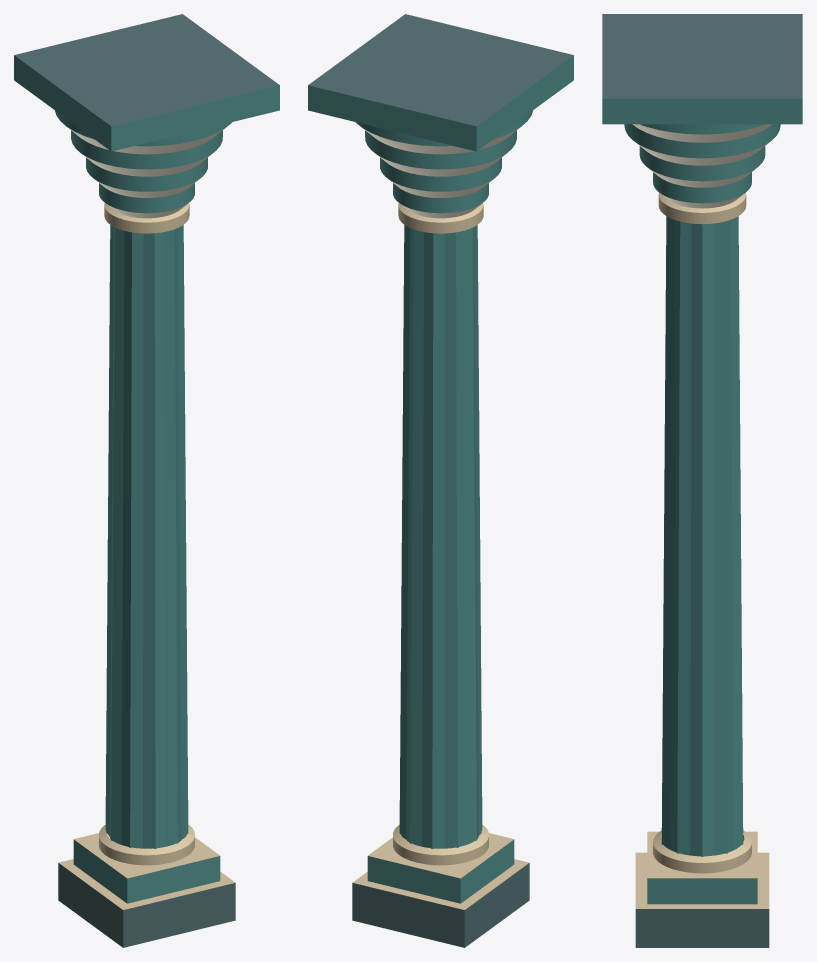
Rendered from KC32__AD_Int_Column.glb.
3 renders of one model, left to right at view 1: azimuth 30°, elevation 25°; view 2: azimuth 150°, elevation 25°; view 3: azimuth 270°, elevation 25°, orthographic. The views are drawn at different scales.
Visible parts, largest first — view 1: KC32_CORPS__AD_Int_Column, KC32_BRONZE__AD_Int_Column, KC32_LUMIERE__AD_Int_Column; view 2: KC32_CORPS__AD_Int_Column, KC32_BRONZE__AD_Int_Column, KC32_LUMIERE__AD_Int_Column; view 3: KC32_CORPS__AD_Int_Column, KC32_BRONZE__AD_Int_Column, KC32_LUMIERE__AD_Int_Column.
Boxes of the visible parts, x1,y1,x2,y2 form: KC32_CORPS__AD_Int_Column: [14, 14, 279, 947]; KC32_BRONZE__AD_Int_Column: [59, 203, 235, 909]; KC32_LUMIERE__AD_Int_Column: [68, 128, 224, 218]; KC32_CORPS__AD_Int_Column: [308, 14, 573, 947]; KC32_BRONZE__AD_Int_Column: [352, 203, 528, 909]; KC32_LUMIERE__AD_Int_Column: [363, 128, 519, 218]; KC32_CORPS__AD_Int_Column: [602, 14, 802, 947]; KC32_BRONZE__AD_Int_Column: [635, 192, 769, 908]; KC32_LUMIERE__AD_Int_Column: [632, 124, 772, 208].
Size of the model in its own units: 2.1 by 10 by 2.1.
